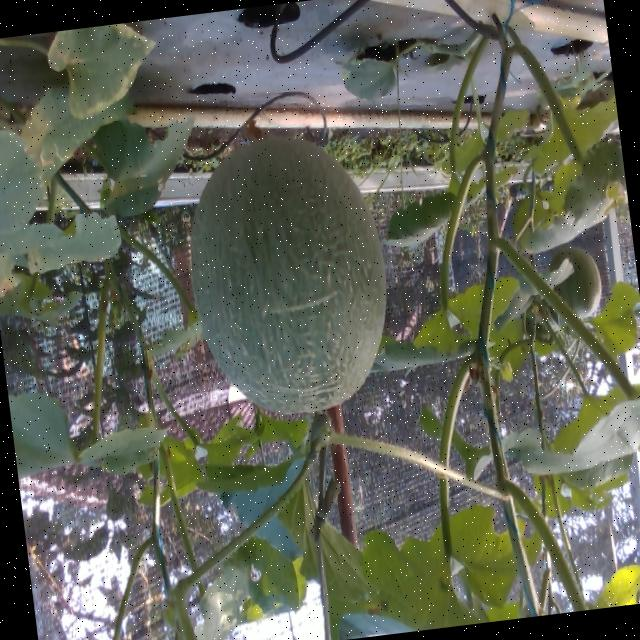melon: (189, 138, 384, 412)
